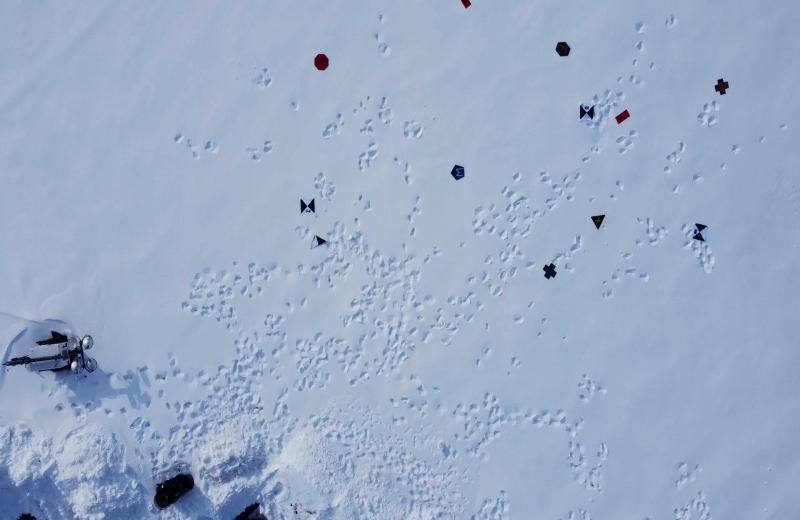Cross: (714, 77, 730, 96), (543, 263, 559, 281)
Hexagon: (554, 41, 572, 57)
Octagon: (312, 54, 328, 72)
Pentagon: (450, 163, 468, 183)
Rectangle: (615, 108, 631, 124), (458, 0, 473, 9)
Triangle: (589, 214, 606, 231)
